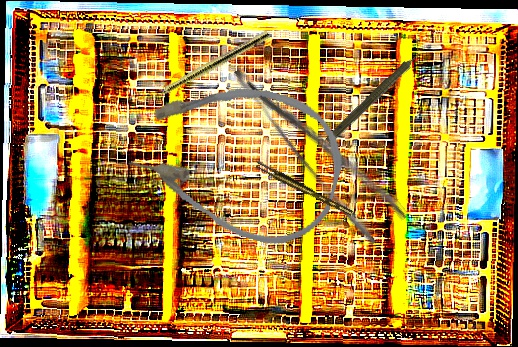Cannula: (117, 59, 357, 258)
Dressing Forceps: (229, 42, 410, 249)
Handpiece: (323, 43, 431, 149), (142, 28, 271, 107)
Tissue Forceps: (253, 157, 354, 221)
